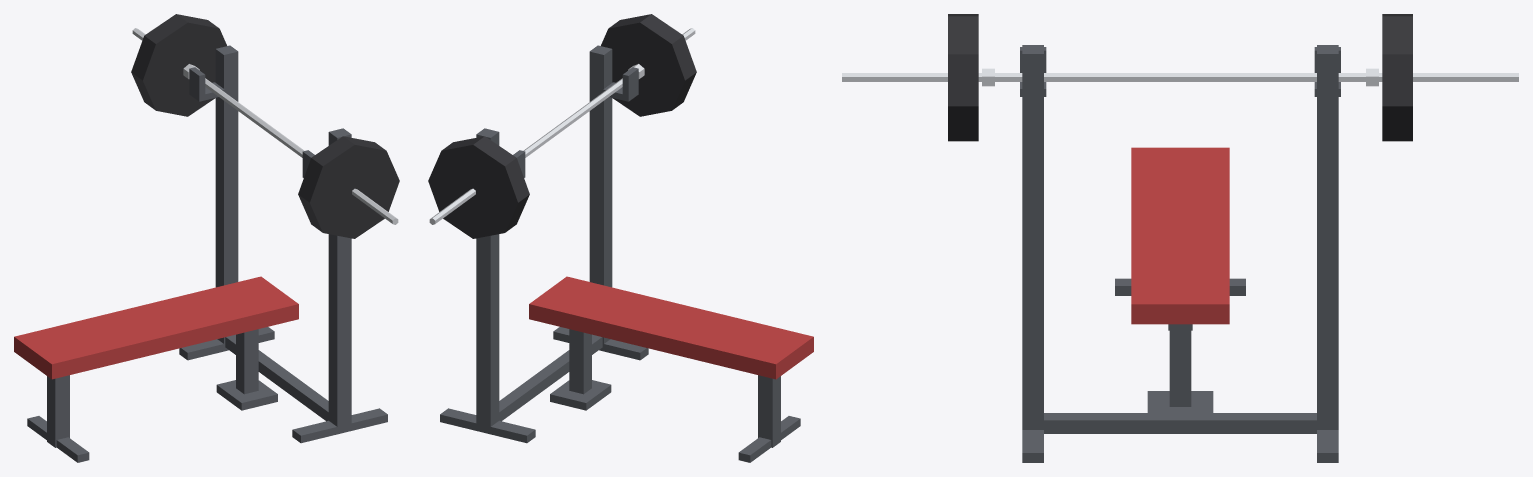
File: BenchPress.fbx
3 views of the same model, side by side, from view 1: azimuth 30°, elevation 25°; view 2: azimuth 150°, elevation 25°; view 3: azimuth 270°, elevation 25° (orthographic). The views are drawn at different scales.
Parts seen in each view (by area): view 1: BenchPress_Frame, BenchPress_Plate, BenchPress_Pad, BenchPress_Bar; view 2: BenchPress_Frame, BenchPress_Plate, BenchPress_Pad, BenchPress_Bar; view 3: BenchPress_Frame, BenchPress_Pad, BenchPress_Plate, BenchPress_Bar.
Boxes of the visible parts, x1,y1,x2,y2 form: BenchPress_Frame: (27, 45, 387, 462); BenchPress_Plate: (131, 14, 399, 238); BenchPress_Pad: (14, 276, 298, 379); BenchPress_Bar: (132, 28, 398, 224); BenchPress_Frame: (440, 45, 800, 462); BenchPress_Plate: (428, 14, 696, 238); BenchPress_Pad: (529, 276, 813, 379); BenchPress_Bar: (429, 28, 695, 224); BenchPress_Frame: (1020, 45, 1340, 462); BenchPress_Pad: (1131, 147, 1229, 324); BenchPress_Plate: (948, 14, 1412, 141); BenchPress_Bar: (842, 68, 1518, 86).
Bounding box in the file's own units: 4.05 × 4.12 × 6.2.
